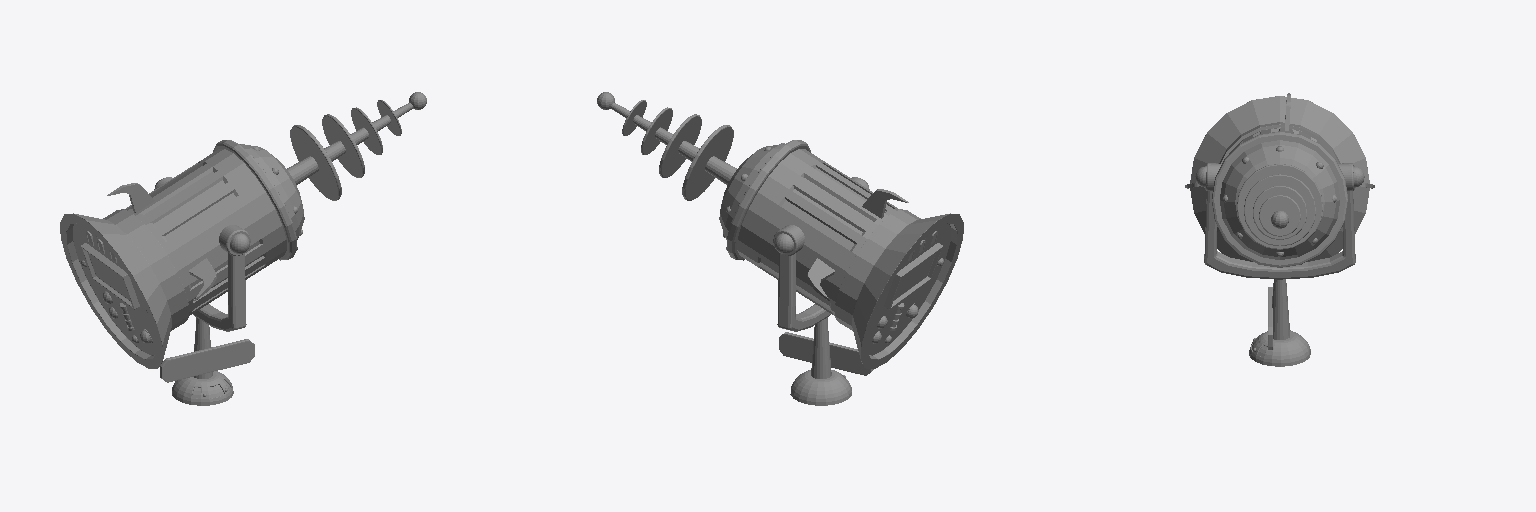
The model's file is Innador.obj.
The picture shows the model from 3 angles: view 1: azimuth 30°, elevation 25°; view 2: azimuth 150°, elevation 25°; view 3: azimuth 270°, elevation 25°; orthographic projection.
Parts seen in each view (by area): view 1: Cuerpo, Discos, pCube1, Base, Agarre, Pantalla_Atras, Alas1, Agarres; view 2: Cuerpo, Discos, Base, Agarre, pCube1, Pantalla_Atras, Alas1, Agarres; view 3: Cuerpo, Discos, Agarre, Base, Agarres.
Part boxes in pixels (left/top/right/bottom): Cuerpo: left=60, top=103, right=412, bottom=368; Discos: left=290, top=92, right=426, bottom=200; pCube1: left=160, top=339, right=254, bottom=382; Base: left=172, top=317, right=233, bottom=405; Agarre: left=193, top=253, right=246, bottom=331; Pantalla_Atras: left=80, top=243, right=139, bottom=309; Alas1: left=107, top=183, right=216, bottom=300; Agarres: left=154, top=177, right=250, bottom=255; Cuerpo: left=611, top=103, right=963, bottom=368; Discos: left=597, top=92, right=733, bottom=200; Base: left=790, top=317, right=851, bottom=405; Agarre: left=777, top=253, right=830, bottom=331; pCube1: left=779, top=332, right=873, bottom=375; Pantalla_Atras: left=884, top=243, right=943, bottom=309; Alas1: left=807, top=189, right=908, bottom=300; Agarres: left=773, top=177, right=869, bottom=255; Cuerpo: left=1190, top=96, right=1369, bottom=267; Discos: left=1237, top=164, right=1322, bottom=249; Agarre: left=1204, top=191, right=1355, bottom=279; Base: left=1249, top=279, right=1310, bottom=366; Agarres: left=1195, top=163, right=1364, bottom=190.
Bounding box in the file's own units: 376 × 262 × 182.